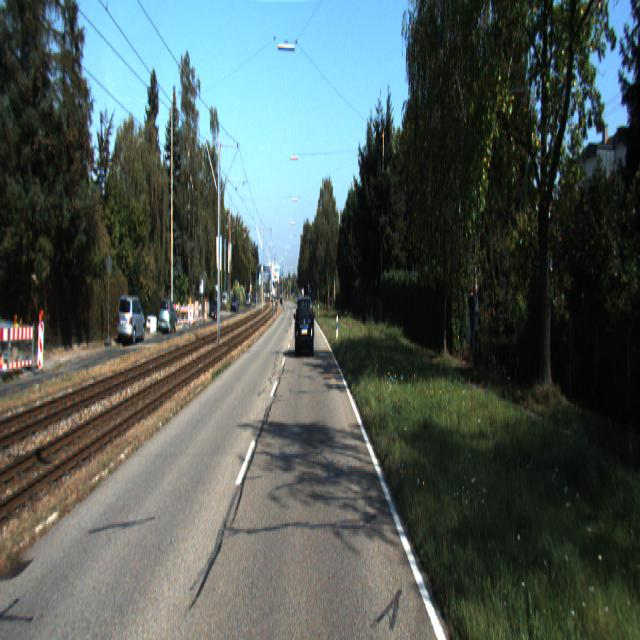Car: (116, 296, 146, 346), (296, 294, 314, 358), (158, 298, 177, 334)
